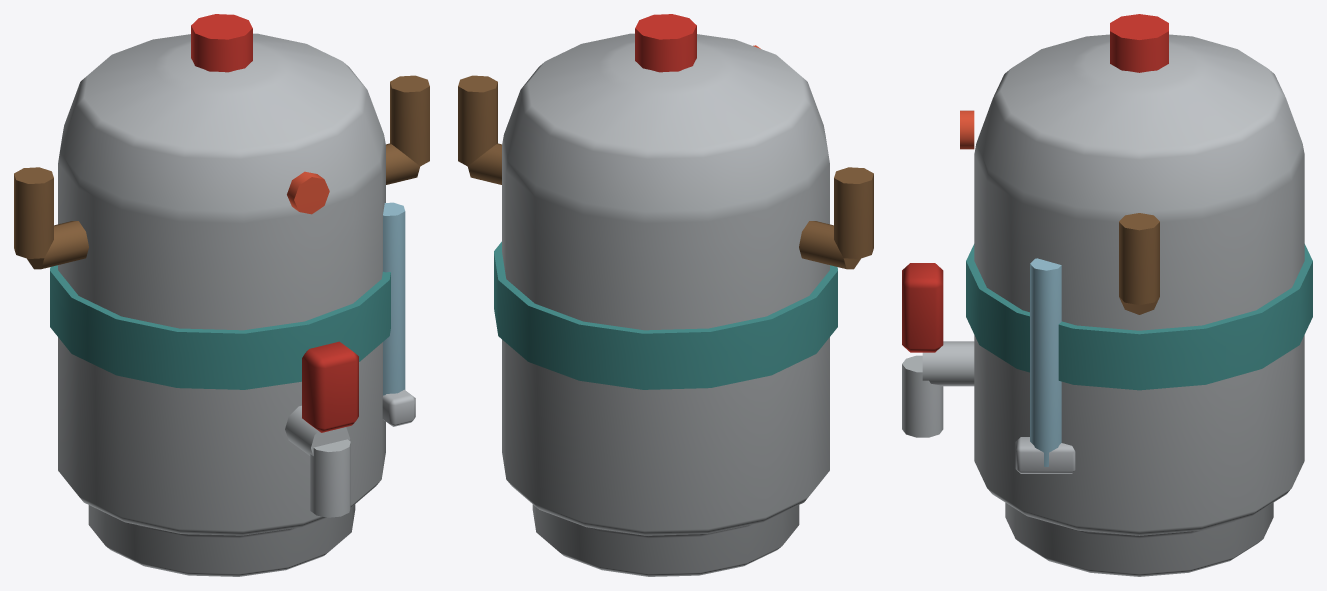
Rendered from SM_HotWater_Tea_Urn_01.glb.
3 renders of one model, left to right at view 1: azimuth 30°, elevation 25°; view 2: azimuth 150°, elevation 25°; view 3: azimuth 270°, elevation 25°, orthographic.
Parts seen in each view (by area): view 1: SM_HotWater_Tea_Urn_01; view 2: SM_HotWater_Tea_Urn_01; view 3: SM_HotWater_Tea_Urn_01.
Part boxes in pixels (x1=…): SM_HotWater_Tea_Urn_01: x1=14, y1=14, x2=429, y2=576; SM_HotWater_Tea_Urn_01: x1=458, y1=14, x2=873, y2=576; SM_HotWater_Tea_Urn_01: x1=902, y1=14, x2=1312, y2=576.
Bounding box in the file's own units: 0.46 × 0.53 × 0.398.
Materials: 1 (1 with a texture image).
